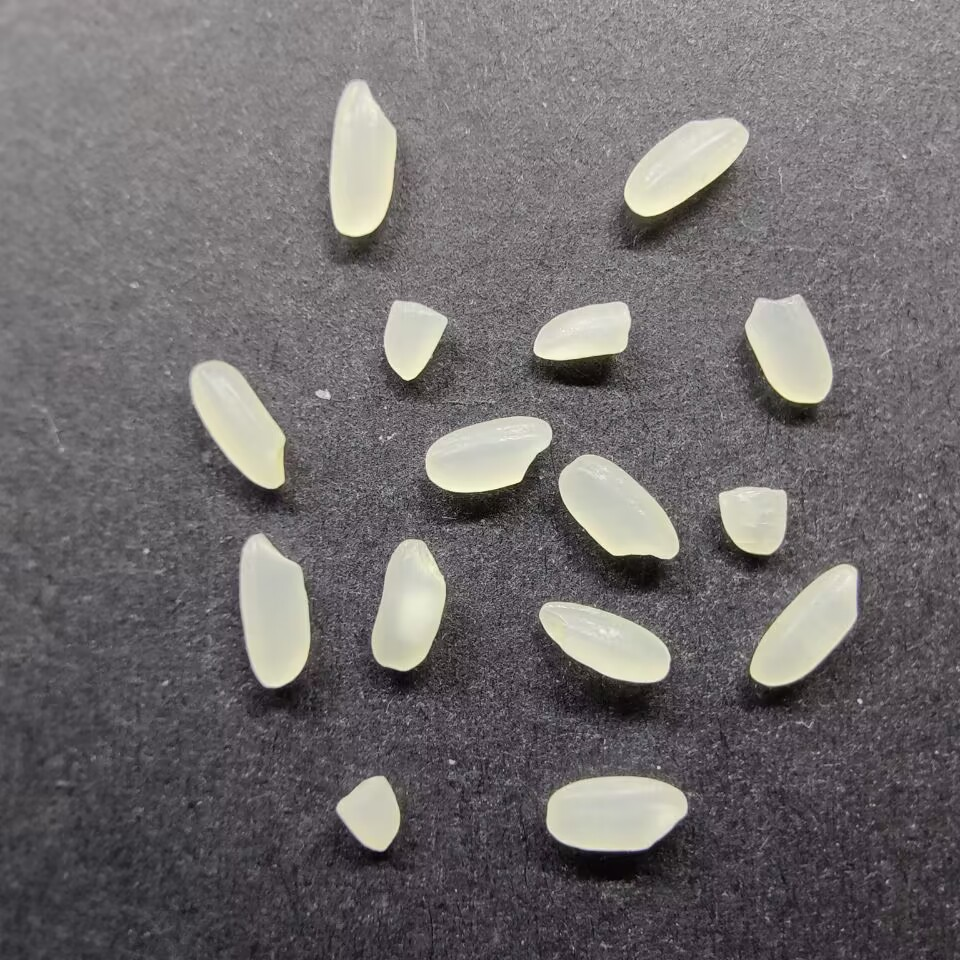broken: (743, 293, 834, 404), (531, 300, 633, 362), (333, 774, 403, 854), (382, 298, 448, 382), (717, 482, 789, 556)
rice: (747, 560, 862, 688), (186, 356, 290, 492), (557, 452, 680, 562), (623, 116, 750, 218), (235, 531, 313, 690), (325, 77, 398, 238), (537, 599, 672, 685), (367, 538, 450, 672), (544, 775, 690, 851), (422, 415, 555, 494)
